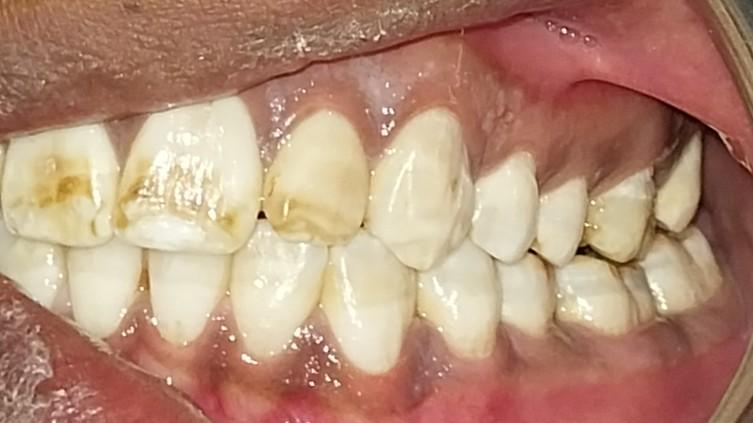D: (547, 256, 658, 334)
